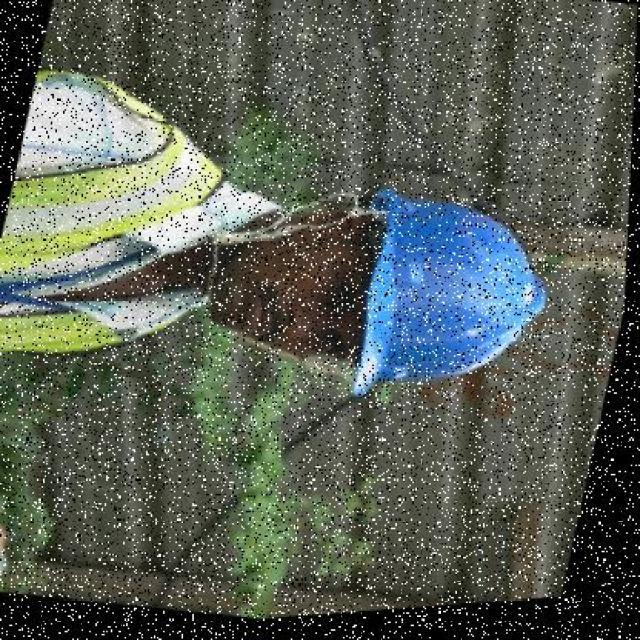helmet: (325, 169, 585, 437)
vest: (0, 54, 254, 395)
